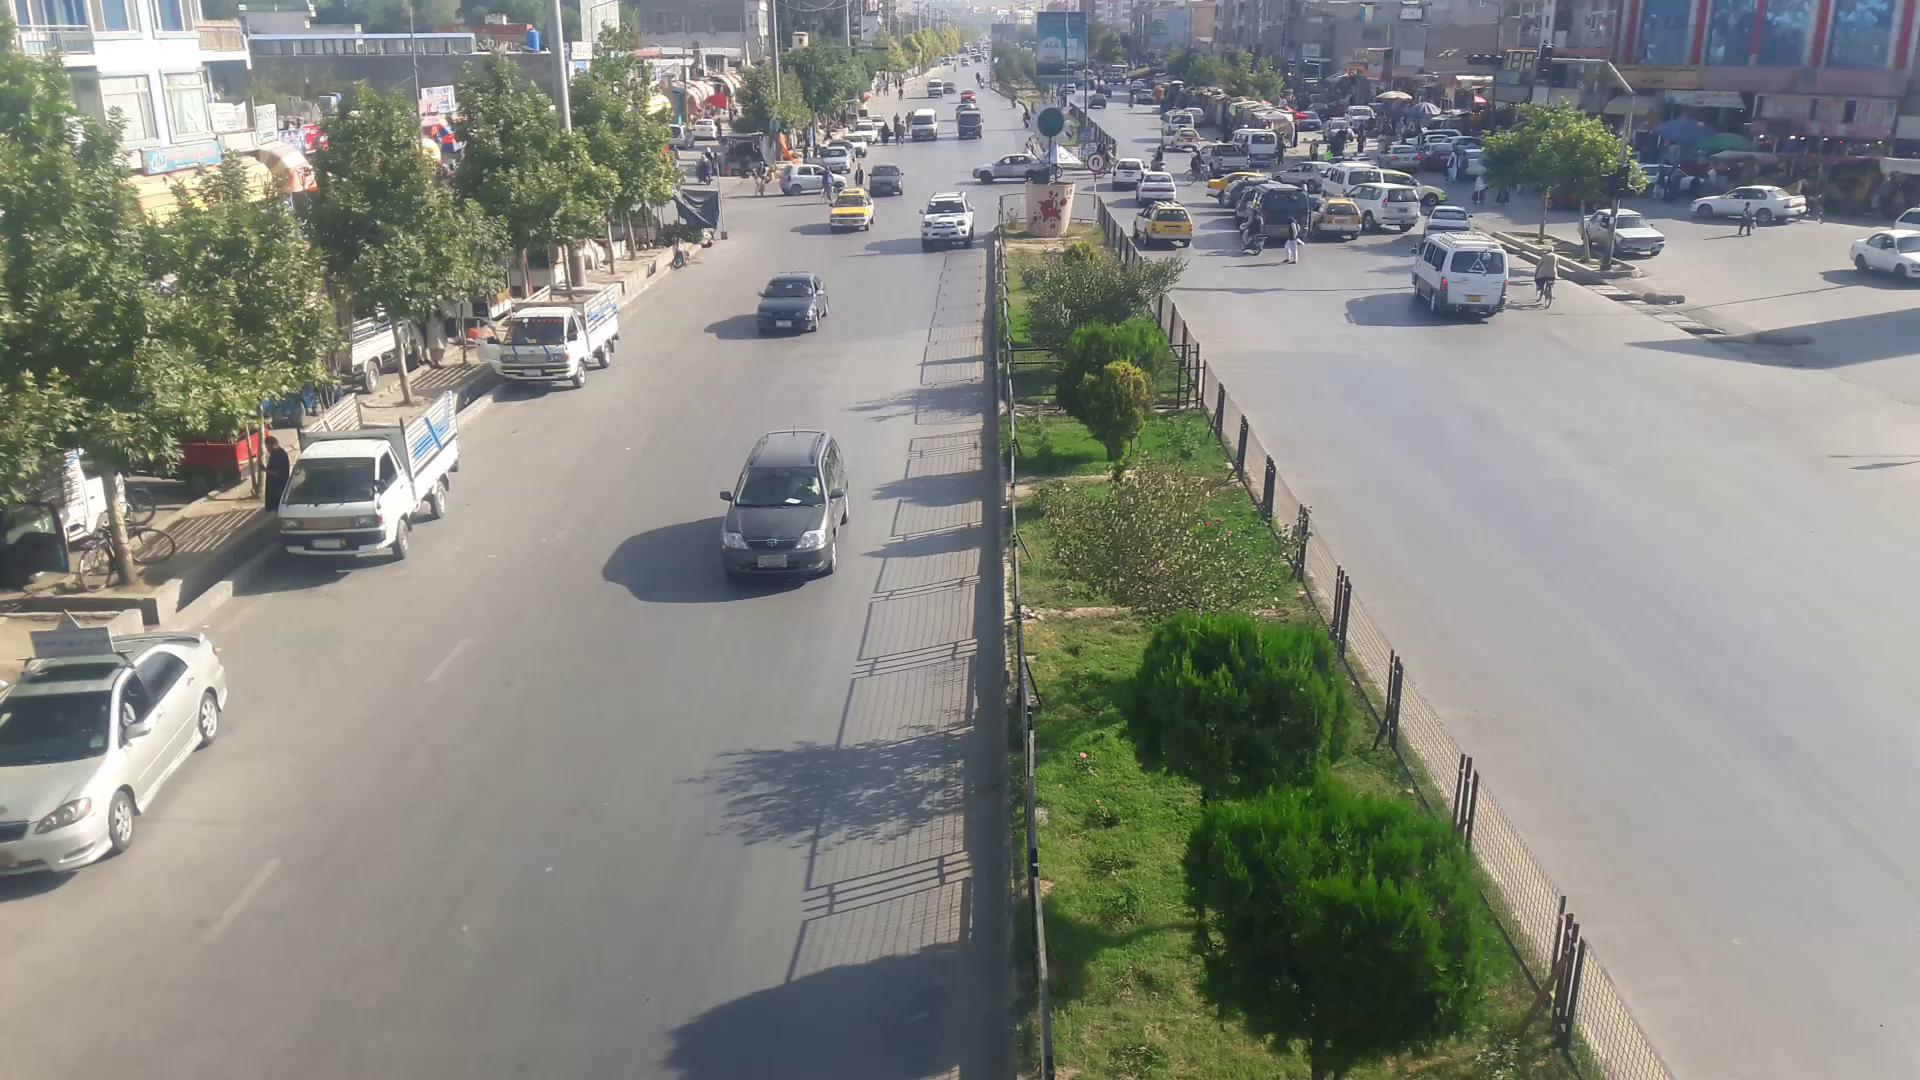car: (0, 630, 220, 866), (719, 427, 858, 583), (1410, 239, 1515, 318), (1581, 210, 1669, 262), (1691, 189, 1799, 231), (1342, 181, 1425, 235), (758, 270, 827, 332), (1851, 220, 1919, 280), (919, 194, 972, 239), (825, 191, 873, 235), (869, 165, 910, 196), (1423, 207, 1472, 233)
truck: (280, 433, 422, 560), (479, 293, 612, 388)
